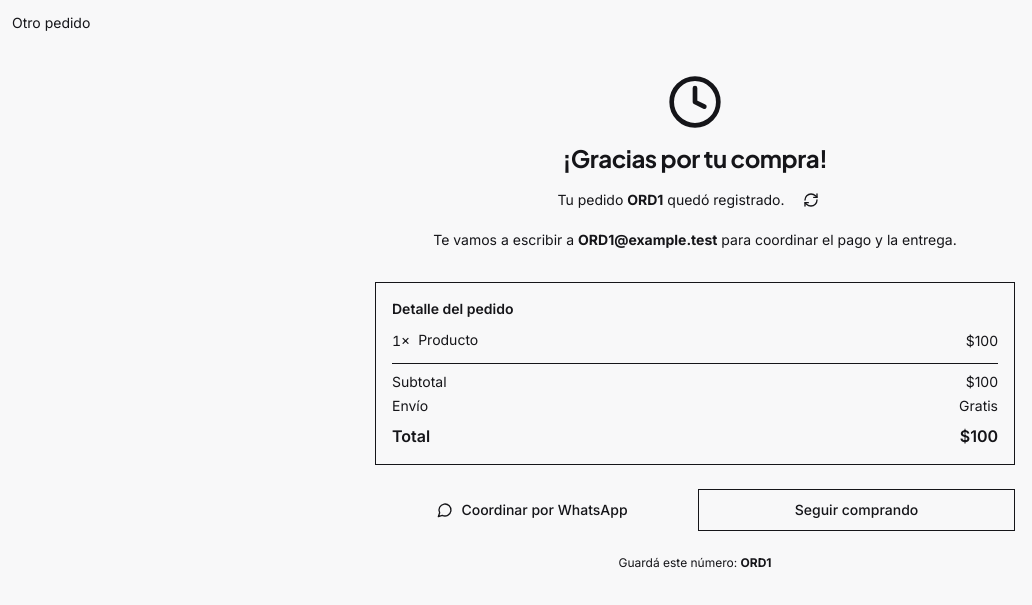
Test: recuperación de la página de pedido › actualiza un pago manual sin recargar la página ni iniciar un cobro
Click the button named "Actualizar estado del pedido": (810, 200) x1=788 y1=178 x2=832 y2=222
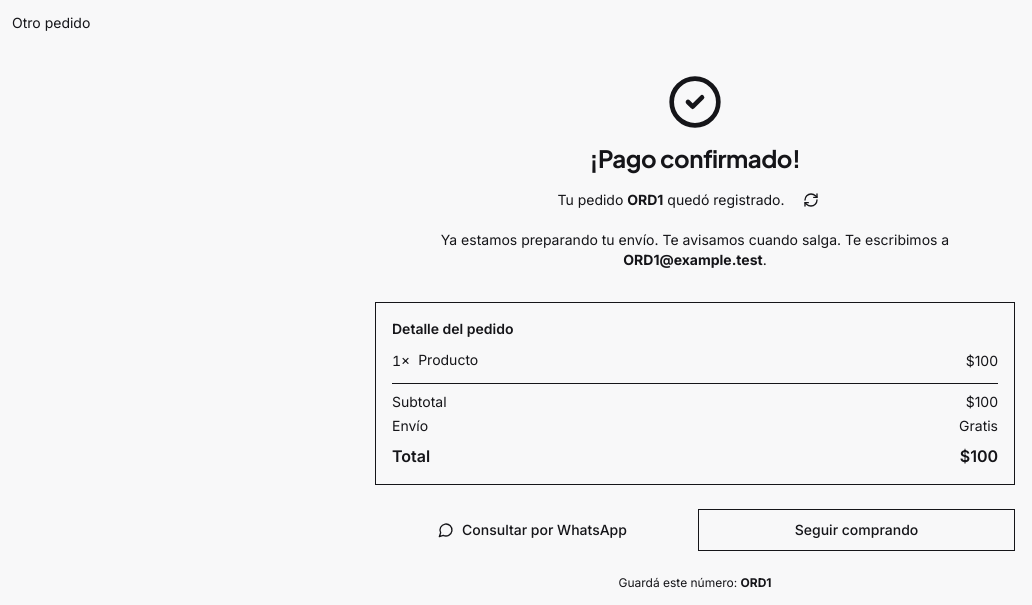
Result: the heading "¡Pago confirmado!" is shown at x1=590 y1=143 x2=800 y2=173
